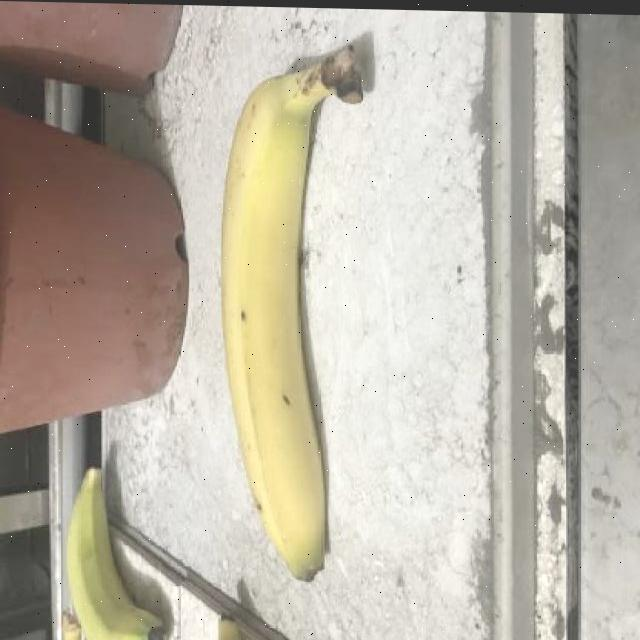banana: (210, 29, 376, 595), (55, 447, 174, 640)
